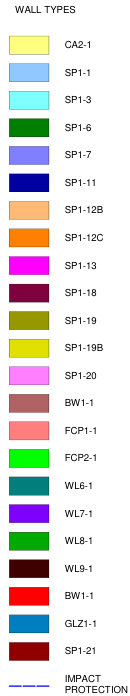hatch: (5, 638, 52, 664), (6, 390, 52, 416), (5, 501, 53, 525), (6, 88, 53, 112), (6, 60, 52, 84), (6, 116, 52, 140), (6, 171, 52, 195), (7, 446, 51, 471), (7, 143, 52, 167), (6, 253, 51, 277), (6, 281, 51, 305), (7, 308, 52, 332), (7, 336, 52, 360), (6, 418, 51, 442), (6, 474, 51, 498), (6, 556, 51, 580), (6, 612, 52, 635), (7, 530, 51, 554), (7, 34, 52, 57), (6, 198, 51, 221), (7, 226, 52, 249), (6, 584, 51, 607), (5, 365, 51, 387), (7, 679, 53, 690)
label: (60, 671, 130, 695), (62, 340, 110, 355), (61, 201, 108, 216), (62, 230, 109, 244), (60, 285, 100, 301), (61, 367, 101, 383), (60, 422, 100, 438), (61, 559, 96, 577), (60, 615, 99, 631), (61, 35, 95, 53), (60, 258, 103, 272), (59, 394, 96, 410), (60, 587, 99, 602), (58, 91, 94, 107), (60, 478, 96, 494), (63, 450, 101, 465), (62, 313, 102, 327), (61, 643, 99, 657), (62, 533, 95, 549), (62, 507, 99, 521), (63, 146, 95, 162), (60, 176, 99, 189), (62, 66, 93, 81), (62, 121, 95, 133)
